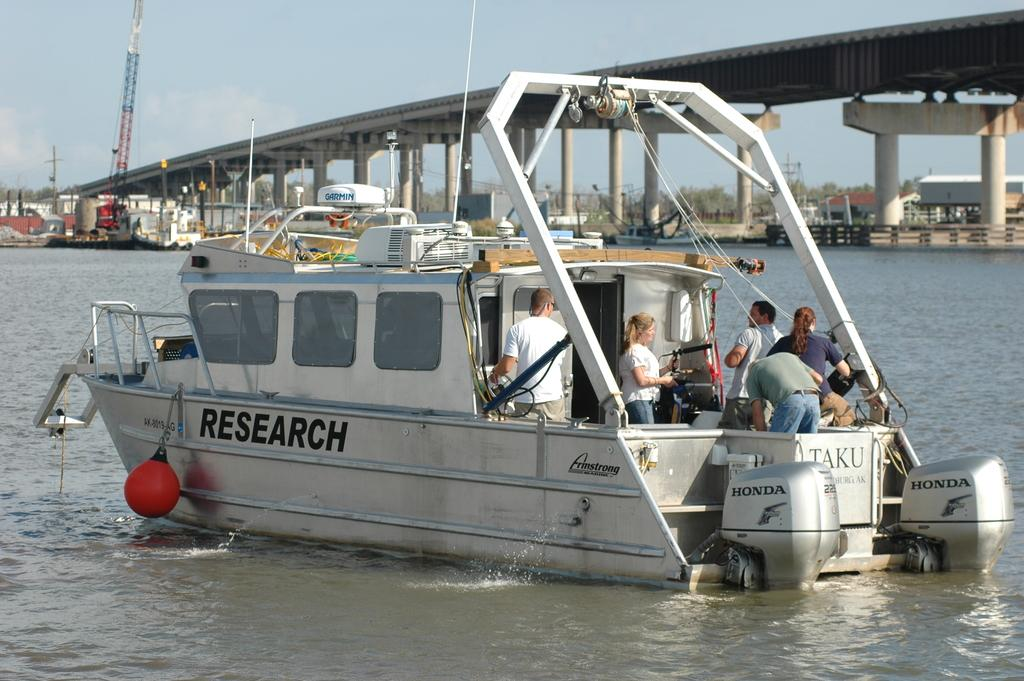PassengerShip: (28, 60, 1018, 576)
